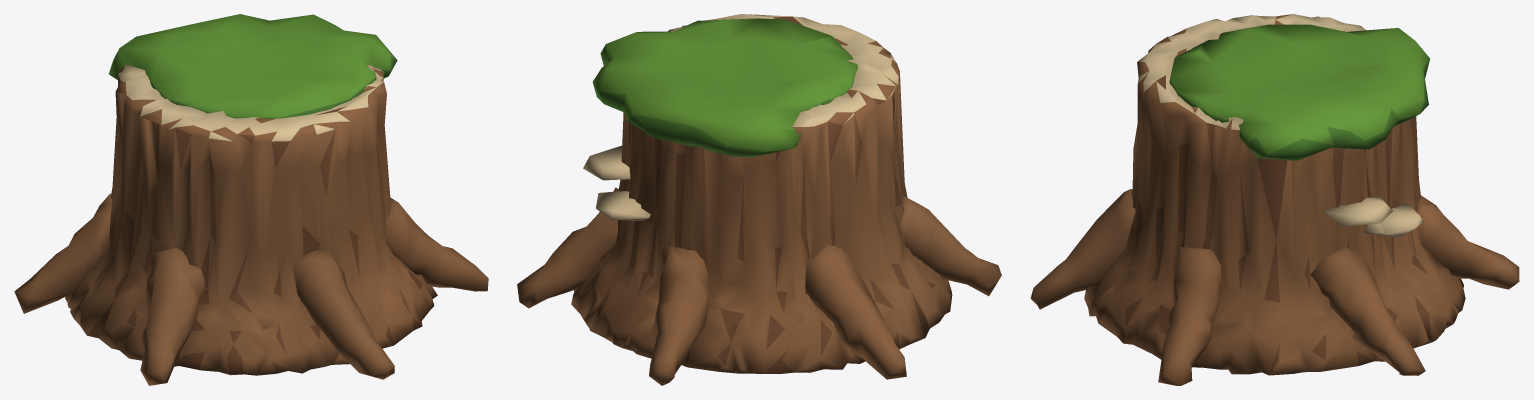
The model's file is glade_mossy_stump_lod1.glb.
3 views of the same model, side by side, from view 1: azimuth 30°, elevation 25°; view 2: azimuth 150°, elevation 25°; view 3: azimuth 270°, elevation 25° (orthographic). The views are drawn at different scales.
Visible parts, largest first — view 1: glade_mossy_stump.001; view 2: glade_mossy_stump.001; view 3: glade_mossy_stump.001.
Boxes of the visible parts, <box> form: glade_mossy_stump.001: <box>14,14,488,385</box>; glade_mossy_stump.001: <box>517,14,1001,385</box>; glade_mossy_stump.001: <box>1030,14,1519,385</box>.
Size of the model in its own units: 10.79 by 6.48 by 11.71.
